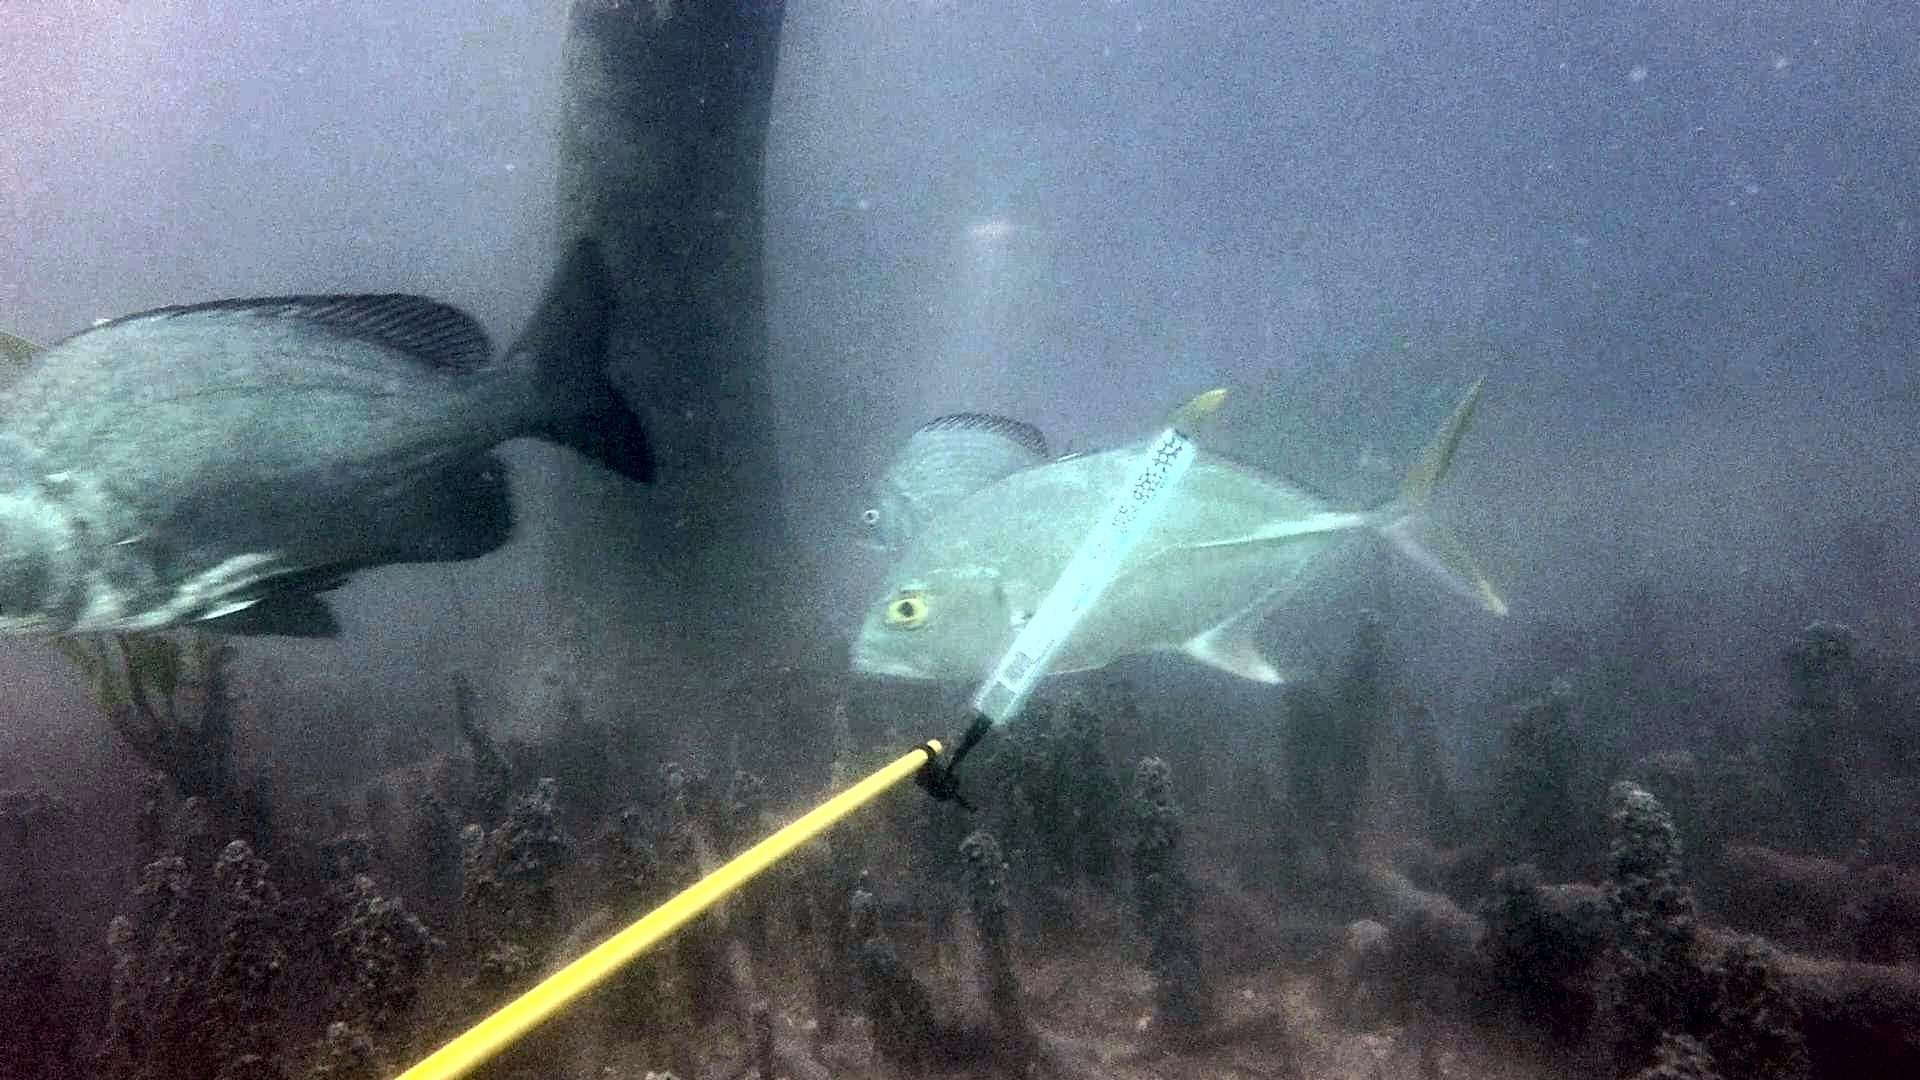acanthopagrus palmaris: (0, 219, 678, 653), (839, 390, 1073, 568)
caranx: (833, 359, 1544, 703)
